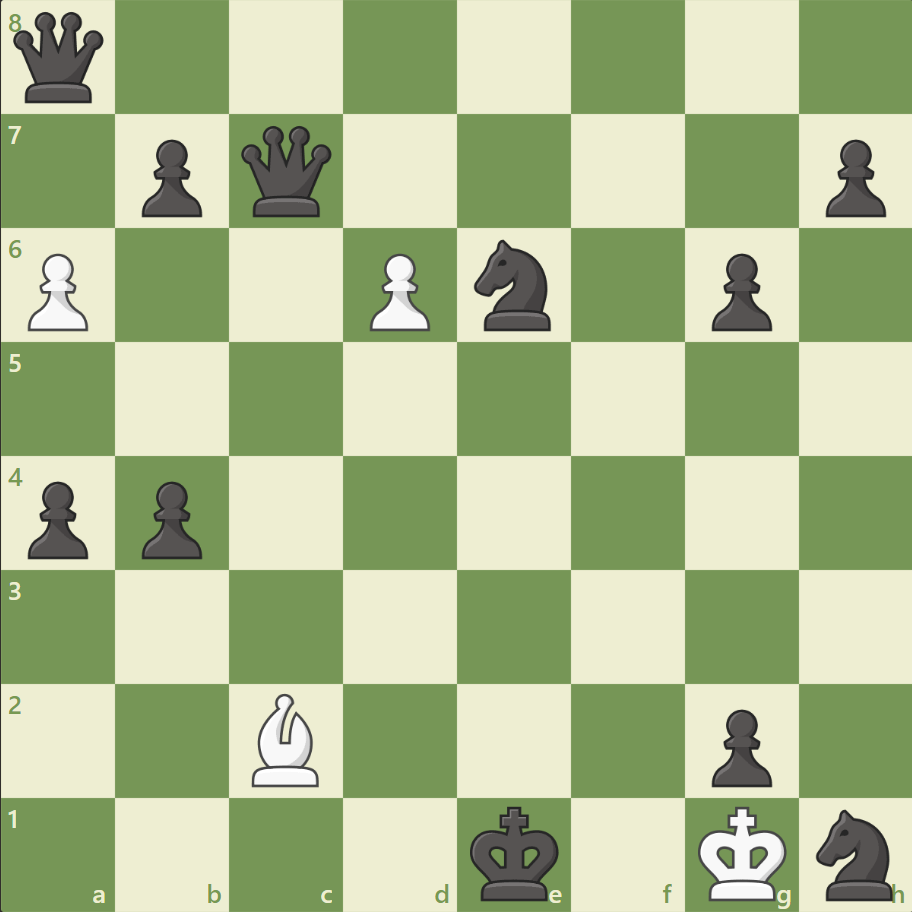B: (244, 687, 328, 790)
K: (692, 798, 792, 906)
P: (20, 246, 95, 337), (361, 246, 435, 337)
k: (465, 798, 565, 906)
n: (465, 234, 562, 337), (806, 802, 903, 904)
p: (133, 132, 208, 223), (701, 246, 776, 337), (20, 473, 95, 564), (133, 473, 208, 564), (701, 700, 776, 791), (815, 132, 889, 223)
q: (237, 122, 336, 222), (10, 9, 109, 108)
